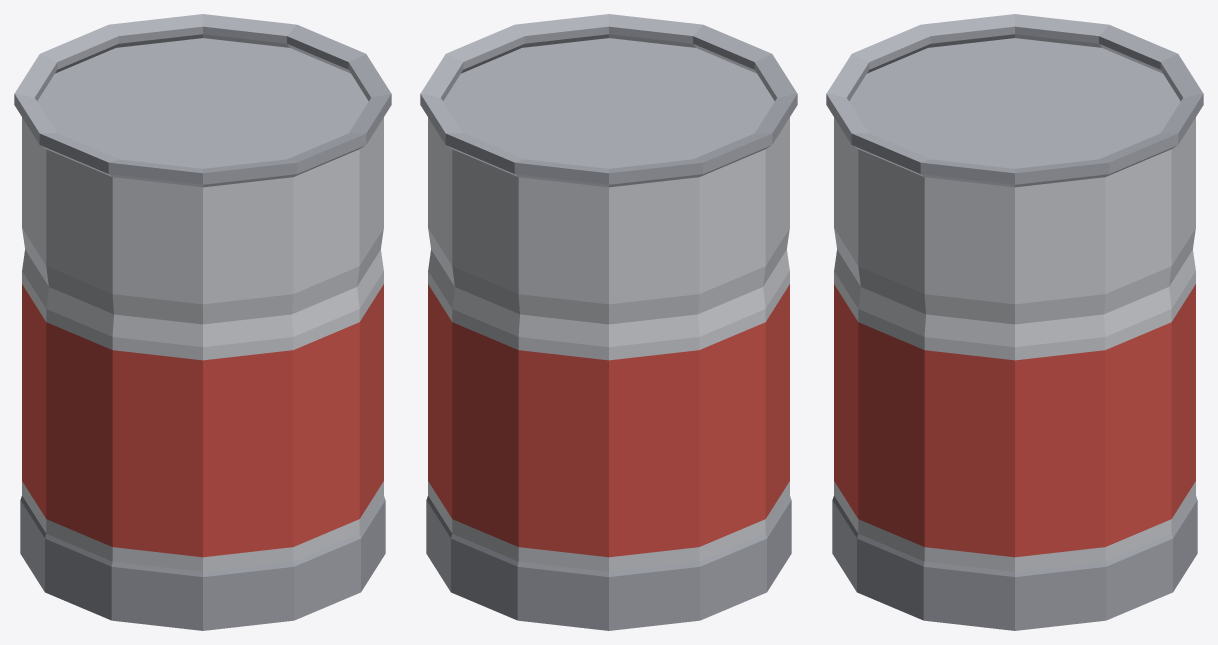
File: drink_red.glb
3 renders of one model, left to right at view 1: azimuth 30°, elevation 25°; view 2: azimuth 150°, elevation 25°; view 3: azimuth 270°, elevation 25°, orthographic.
Parts seen in each view (by area): view 1: Can_Red; view 2: Can_Red; view 3: Can_Red.
Boxes of the visible parts, left/top/right/bottom form: Can_Red: left=14, top=14, right=391, bottom=630; Can_Red: left=420, top=14, right=797, bottom=630; Can_Red: left=826, top=14, right=1203, bottom=630.
Bounding box in the file's own units: 0.4733 × 0.6375 × 0.4733.
